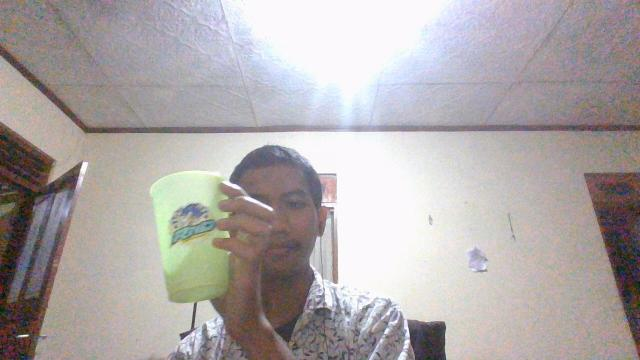botol-hijau: (148, 169, 244, 304)
